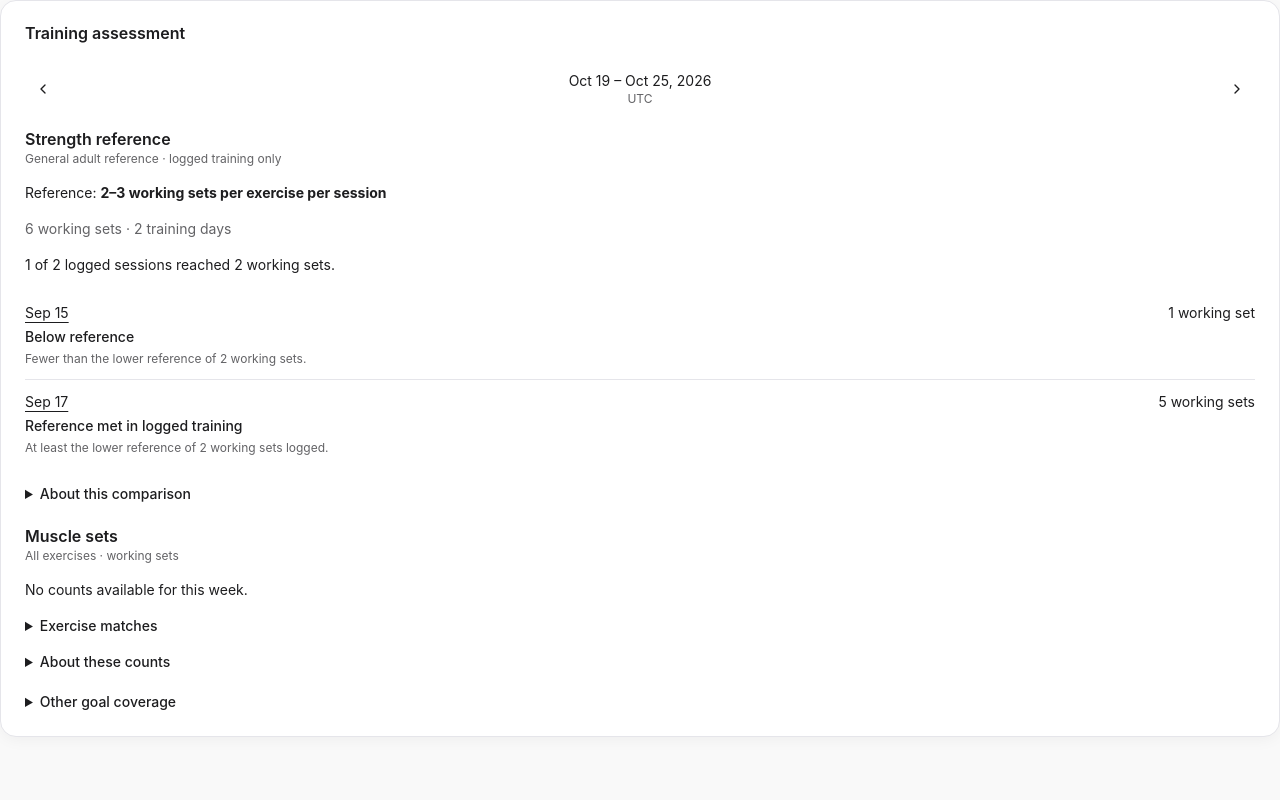
it: Training assessment › shows mixed session findings and the reference instead of an overall verdict
This screenshot has width=1280, height=800.
Expected: the text "1 of 2 logged sessions reached 2 working sets." is shown, [25,256,335,273]
Expected: the text "Below reference" is shown, [25,328,134,345]
What coordinates should you click on to do the following:
click the heading "About this comparison"
I would click on:
 (115, 494)
Its box is [40,485,191,502].
(page scrolled)
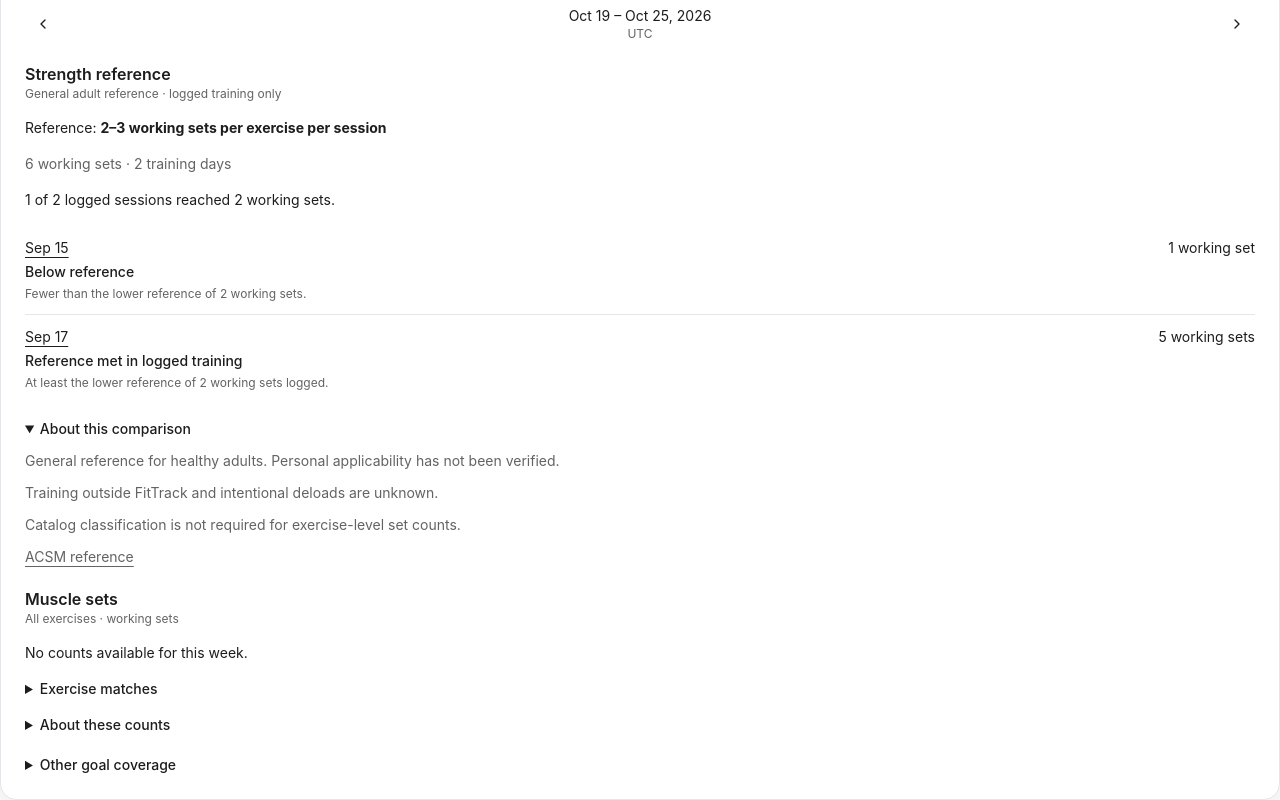
Expected: the text "Personal applicability has not been verified" is shown, [25,452,560,469]
What coordinates should you click on to do the following:
click the heading "Other goal coverage"
I would click on:
 (108, 764)
Its box is [40,756,176,773].
(page scrolled)
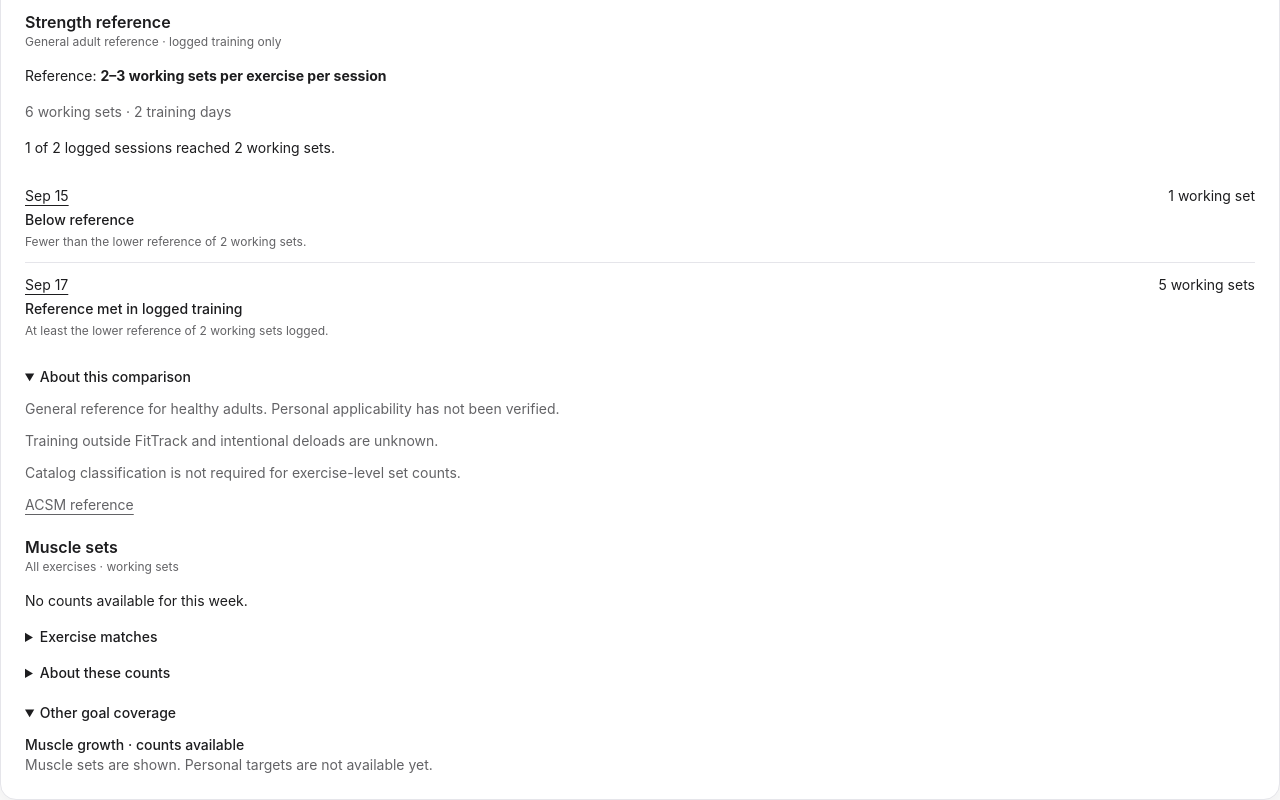
Expected: the text "Muscle growth · counts available" is shown, [25,736,244,753]
